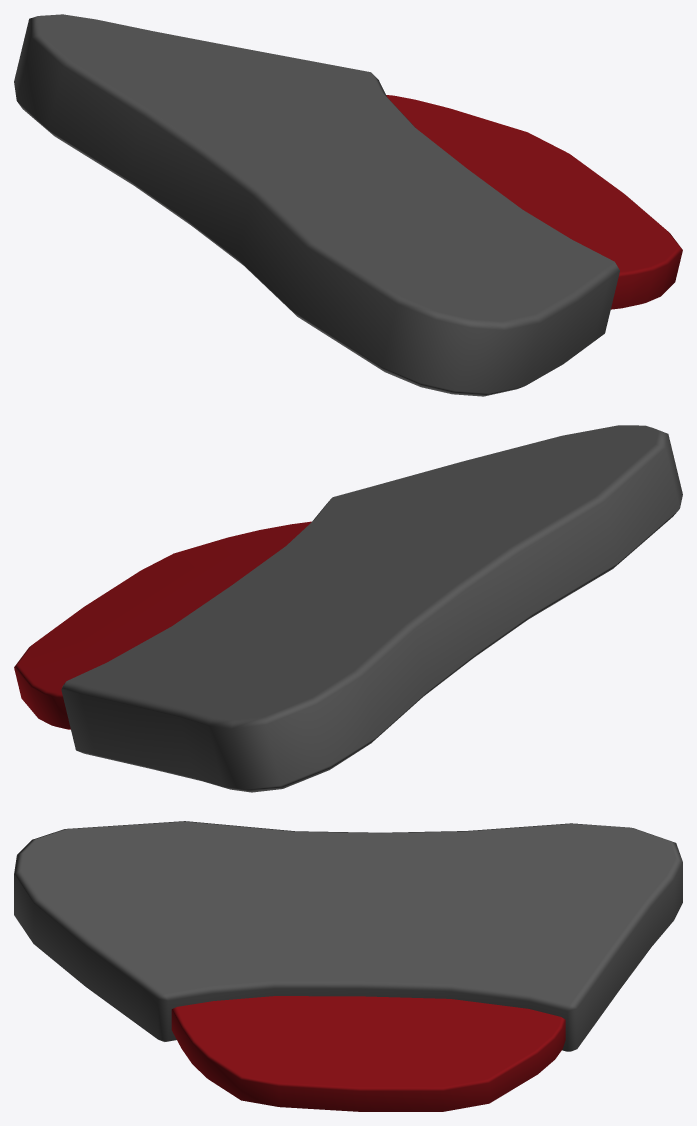
File: Ship_enemy_09_Wing_L.fbx
The picture shows the model from 3 angles, top to bottom: view 1: azimuth 30°, elevation 25°; view 2: azimuth 150°, elevation 25°; view 3: azimuth 270°, elevation 25°; orthographic projection. The views are drawn at different scales.
Visible parts, largest first — view 1: Ship_enemy_09_Wing_L; view 2: Ship_enemy_09_Wing_L; view 3: Ship_enemy_09_Wing_L.
Part boxes in pixels (<box>): Ship_enemy_09_Wing_L: <box>14,14,682,396</box>; Ship_enemy_09_Wing_L: <box>14,425,682,792</box>; Ship_enemy_09_Wing_L: <box>14,821,682,1111</box>.
Bounding box in the file's own units: 140 × 51.19 × 233.
